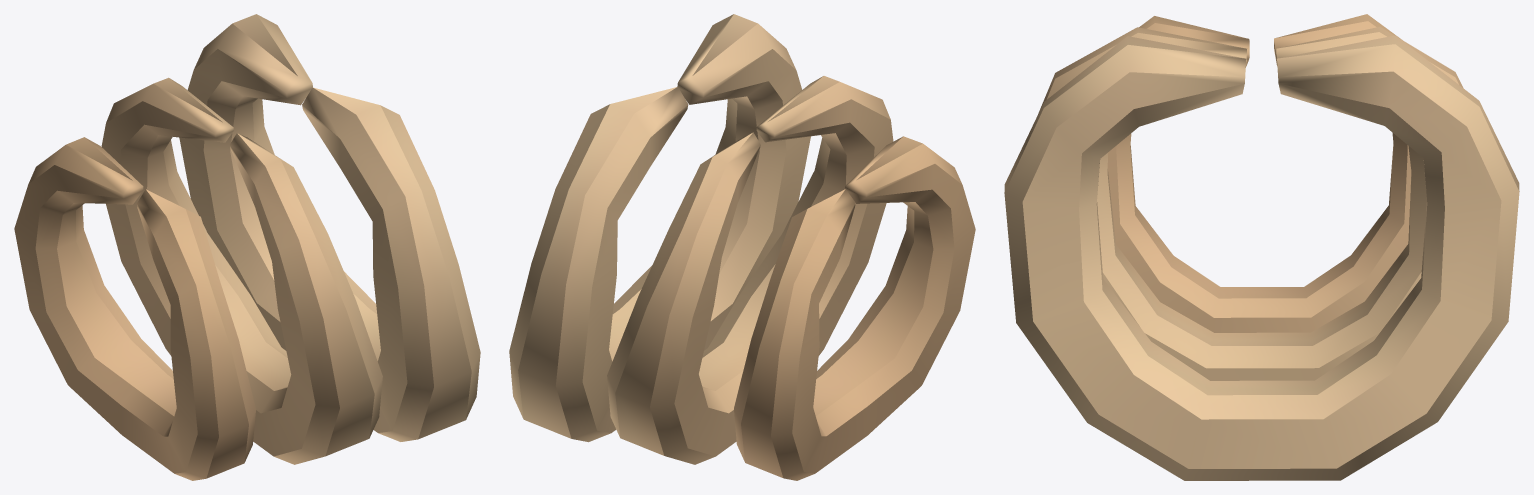
File: Bones_1.obj
The picture shows the model from 3 angles, left to right: view 1: azimuth 30°, elevation 25°; view 2: azimuth 150°, elevation 25°; view 3: azimuth 270°, elevation 25°; orthographic projection. The views are drawn at different scales.
Parts seen in each view (by area): view 1: Bones_1; view 2: Bones_1; view 3: Bones_1.
Part boxes in pixels (x1,y1,x2,y2): Bones_1: (14,14,480,480); Bones_1: (509,14,975,480); Bones_1: (1004,14,1519,480).
Size of the model in its own units: 0.2231 by 0.2466 by 0.2892.
